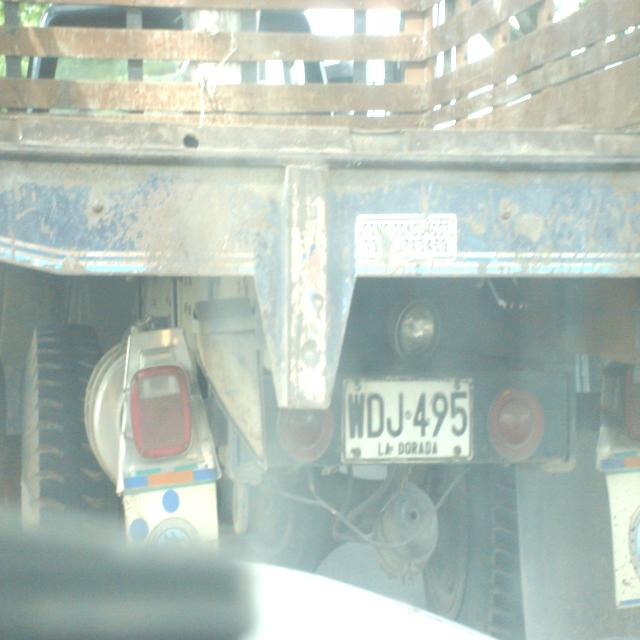placa: (334, 365, 477, 470)
